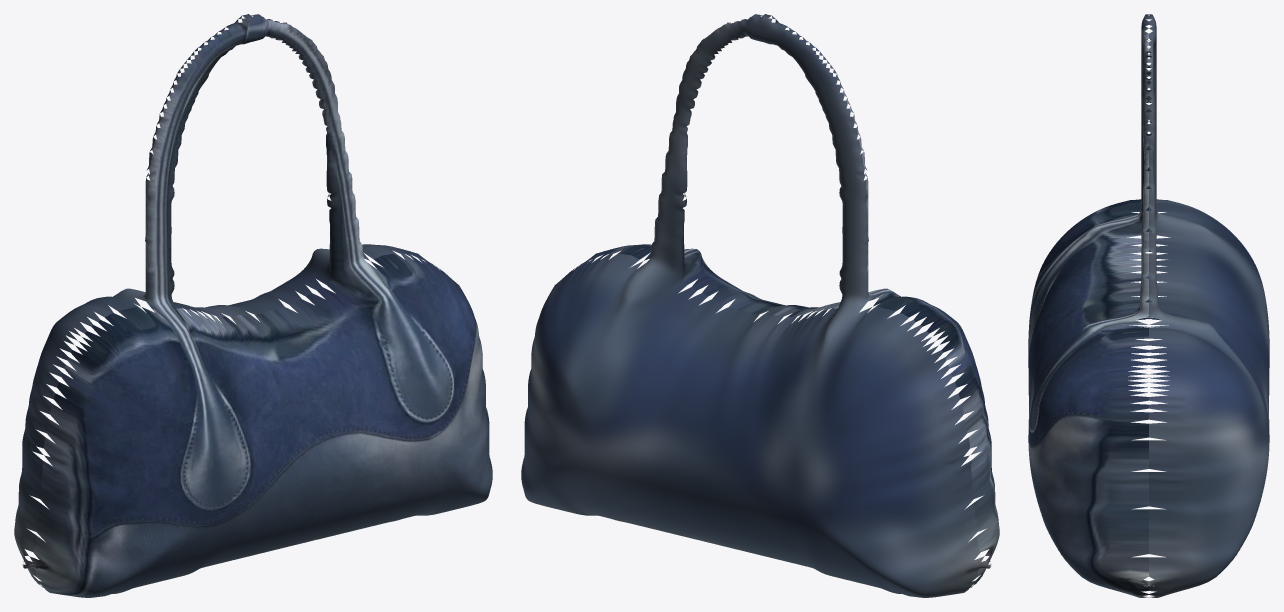
The model's file is bailey-navy.glb.
The picture shows the model from 3 angles, left to right: view 1: azimuth 30°, elevation 25°; view 2: azimuth 150°, elevation 25°; view 3: azimuth 270°, elevation 25°; orthographic projection. The views are drawn at different scales.
Parts seen in each view (by area): view 1: bailey-navy; view 2: bailey-navy; view 3: bailey-navy.
Boxes of the visible parts, <box> form: bailey-navy: <box>14,14,492,597</box>; bailey-navy: <box>521,14,999,597</box>; bailey-navy: <box>1028,14,1269,597</box>.
Size of the model in its own units: 0.3191 by 0.3534 by 0.1588.
2 materials, 2 textured.
